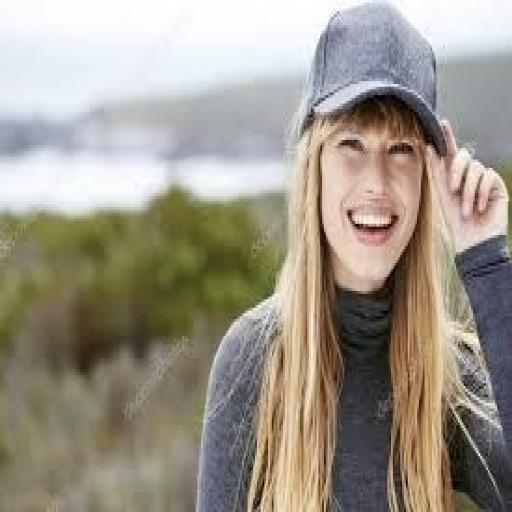laughing: (190, 0, 510, 509)
